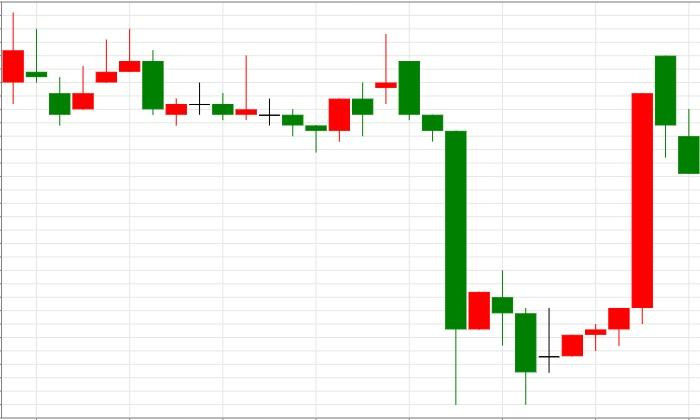three_black_crows_fall: (305, 34, 467, 405)
three_white_soldiers_rise: (374, 34, 631, 405), (2, 12, 141, 126)
